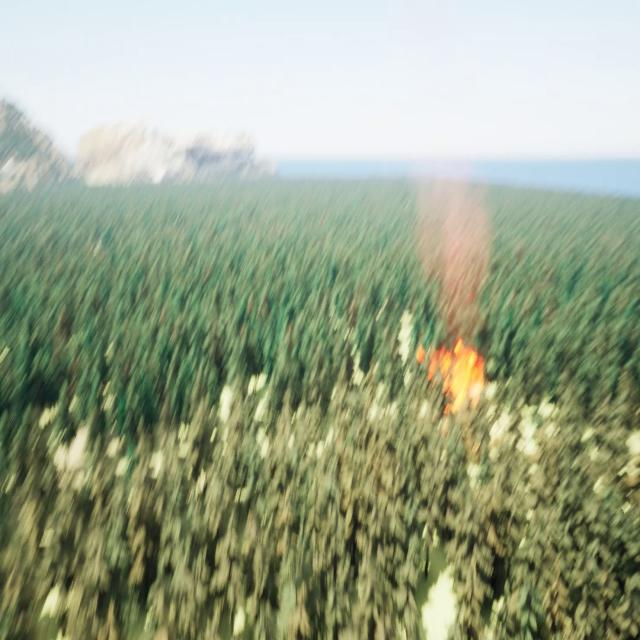fire: (416, 339, 484, 410)
smoke: (410, 163, 491, 338)
